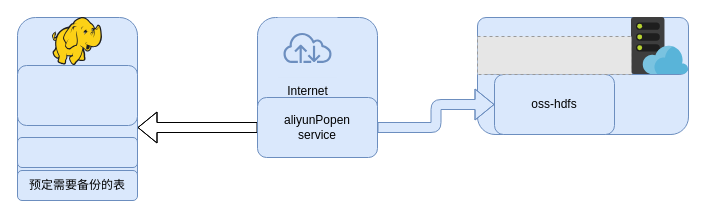
This 706x218 diagram has some shape labels left out. Grey dashed boxes stand in for pictures. Each missing label, with the centre of its shape:
hdfs-auditlog: point (77, 152)
本地hdfs: point (77, 95)
